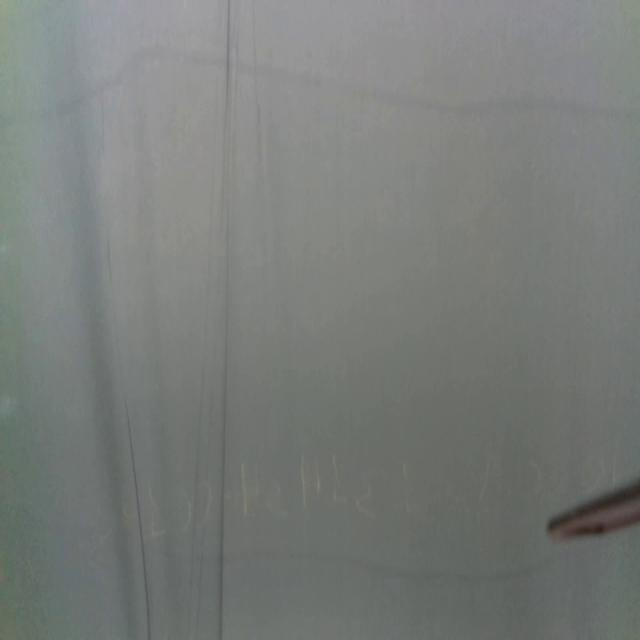color bleeding: (0, 42, 640, 135), (230, 540, 554, 594)
crease: (186, 80, 219, 618), (218, 1, 232, 638), (126, 402, 151, 638)
